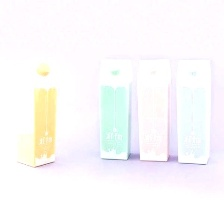carton: (8, 56, 60, 167), (174, 57, 215, 166), (95, 56, 134, 163), (136, 57, 171, 163)
